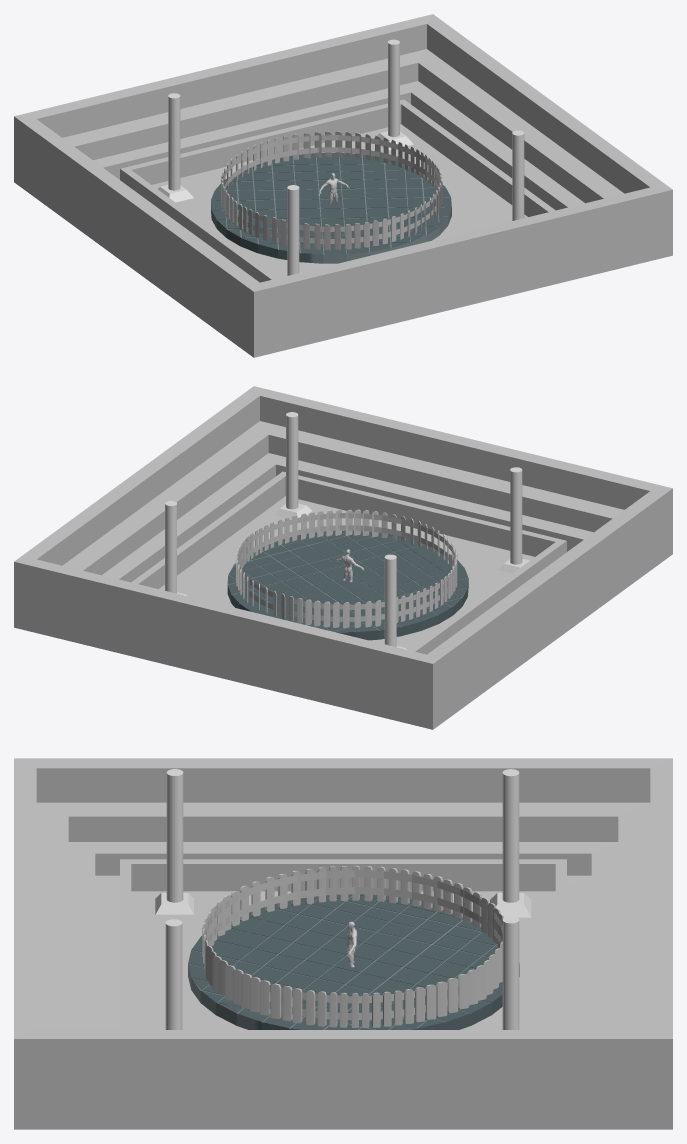
File: arena (1).fbx
The picture shows the model from 3 angles, top to bottom: view 1: azimuth 30°, elevation 25°; view 2: azimuth 150°, elevation 25°; view 3: azimuth 270°, elevation 25°; orthographic projection. The views are drawn at different scales.
Visible parts, largest first — view 1: Cube.014, Cylinder.006, Cylinder.001, Cylinder, Cylinder.004, Cylinder.003, Cylinder.005, Cylinder.002; view 2: Cube.014, Cylinder.006, Cylinder.001, Cylinder, Cylinder.005, Cylinder.002, Cylinder.004, Cylinder.003; view 3: Cube.014, Cylinder.006, Cylinder.001, Cylinder, Cylinder.004, Cylinder.005, Cylinder.003, Cylinder.002, PILAR.002, PILAR.003.
Boxes of the visible parts, <box> form: Cube.014: <box>14,14,672,357</box>; Cylinder.006: <box>211,153,451,263</box>; Cylinder.001: <box>223,135,439,231</box>; Cylinder: <box>224,147,438,243</box>; Cylinder.004: <box>168,93,180,190</box>; Cylinder.003: <box>388,39,399,136</box>; Cylinder.005: <box>287,185,299,275</box>; Cylinder.002: <box>512,130,524,220</box>; Cube.014: <box>14,386,672,729</box>; Cylinder.006: <box>227,530,468,640</box>; Cylinder.001: <box>238,513,455,609</box>; Cylinder: <box>240,525,454,622</box>; Cylinder.005: <box>510,467,522,564</box>; Cylinder.002: <box>286,412,298,509</box>; Cylinder.004: <box>384,554,396,647</box>; Cylinder.003: <box>165,501,176,593</box>; Cube.014: <box>14,758,672,1129</box>; Cylinder.006: <box>188,894,519,1029</box>; Cylinder.001: <box>205,870,502,1003</box>; Cylinder: <box>208,887,501,1020</box>; Cylinder.004: <box>502,769,519,902</box>; Cylinder.005: <box>166,769,183,902</box>; Cylinder.003: <box>502,916,519,1029</box>; Cylinder.002: <box>165,919,182,1029</box>; PILAR.002: <box>490,893,531,917</box>; PILAR.003: <box>155,893,193,914</box>.
Size of the model in its own units: 24091 by 5762 by 23890.
